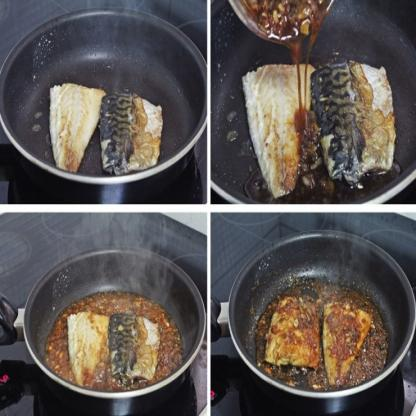Peixe: (226, 47, 397, 196), (44, 53, 188, 196), (67, 304, 161, 389)
